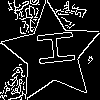H: (27, 28, 75, 69)
